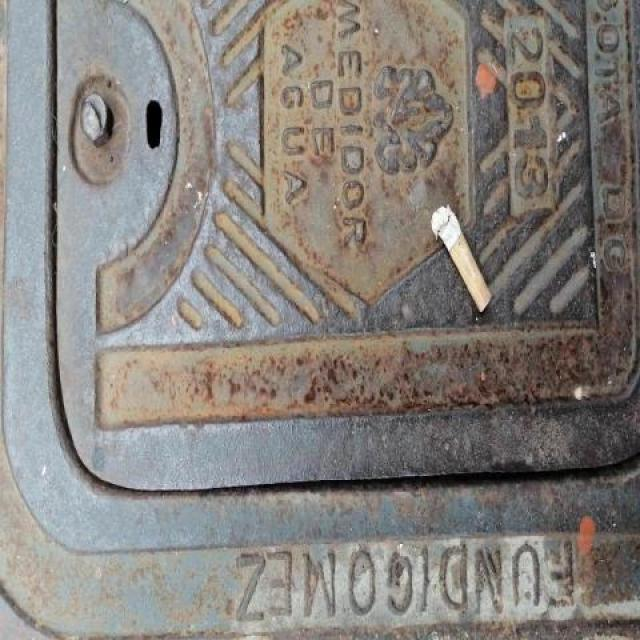non-organic waste: (426, 202, 498, 318)
